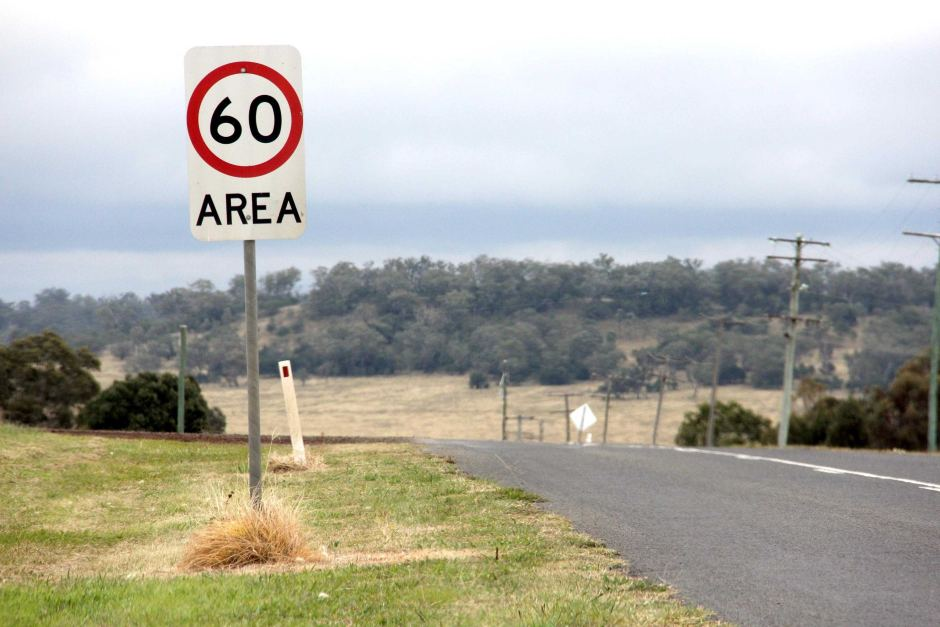Speed_limit_60km: (180, 63, 309, 177)
